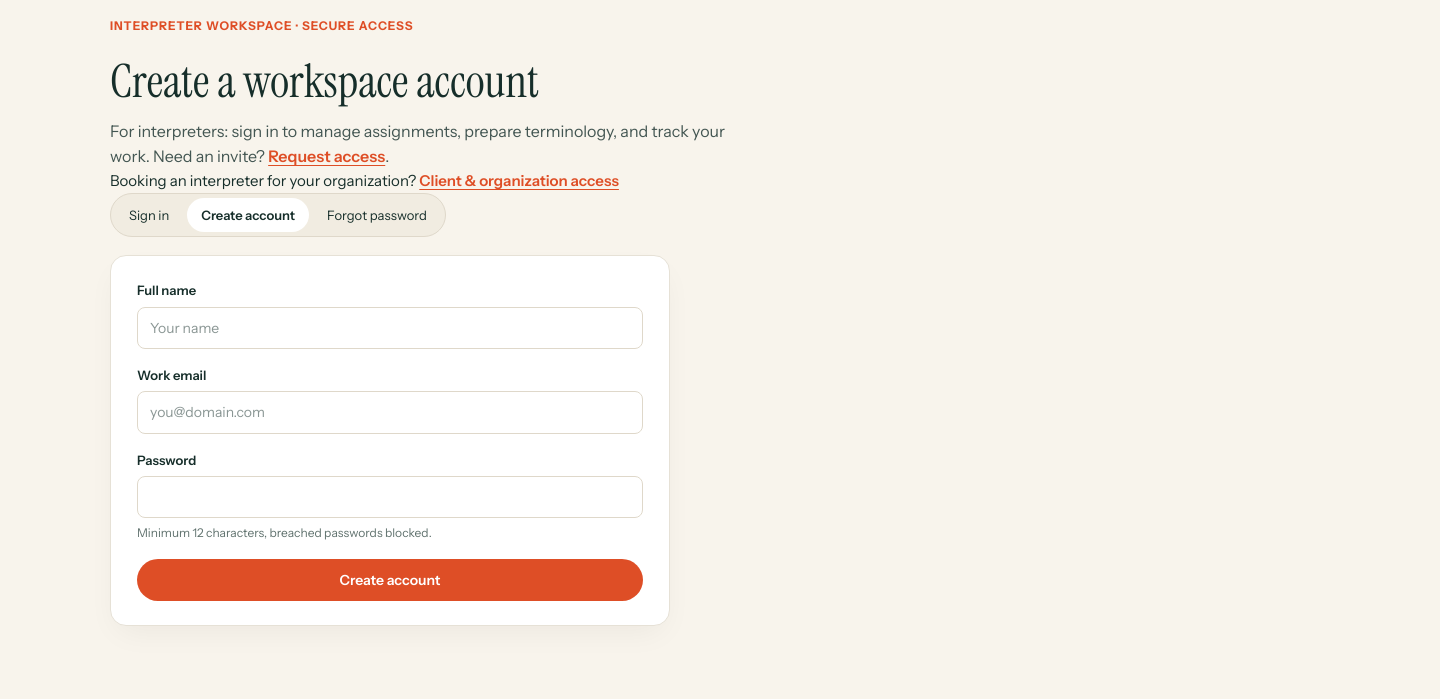
Test: Auth.tsx frontend fail-closed behavior against /api/auth rate limits & 5xx responses › completes normal signup and confirmation resend cleanly through /api/auth
This screenshot has width=1440, height=699.
Type "normal.user@clinic.org" into the field labelled "Work email". click: (390, 413)
box: [137,392,643,434]
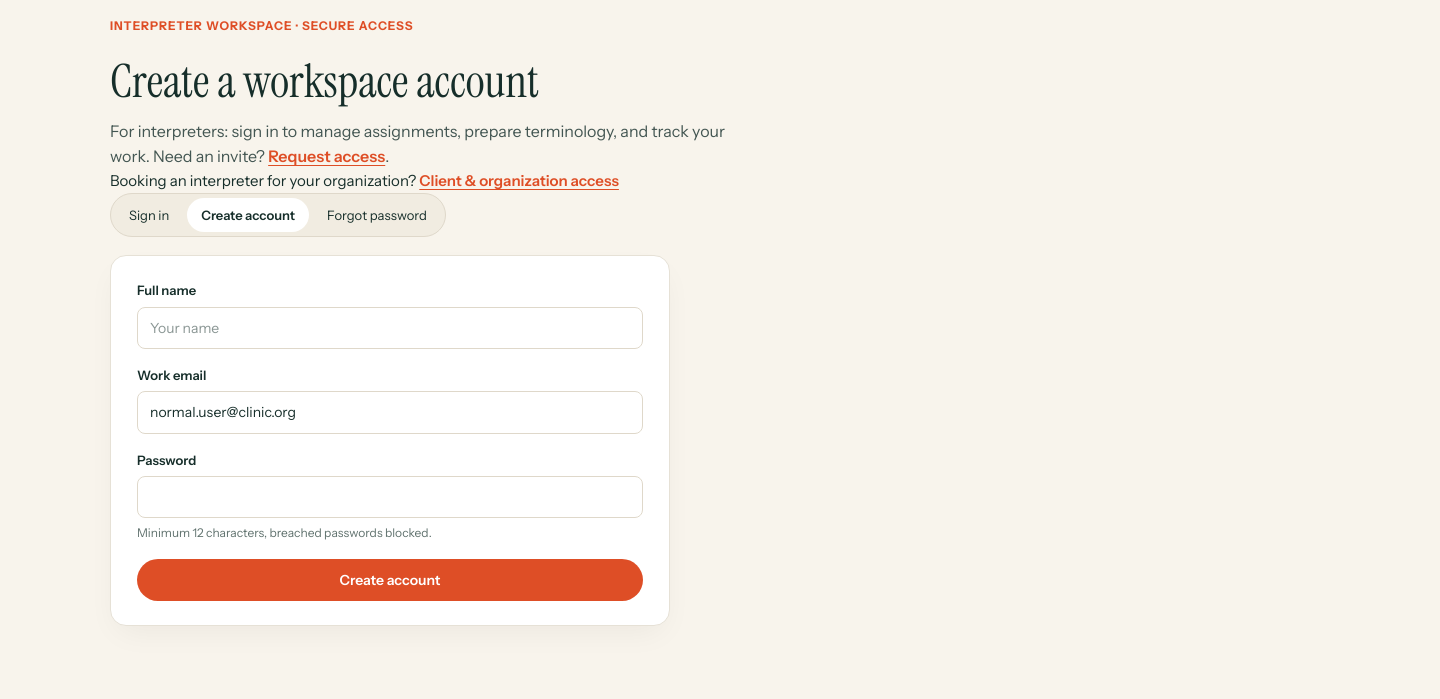
Type "ValidStrongPassword123!" into the password field labelled "Password". click: (390, 497)
box: [137,476,643,518]
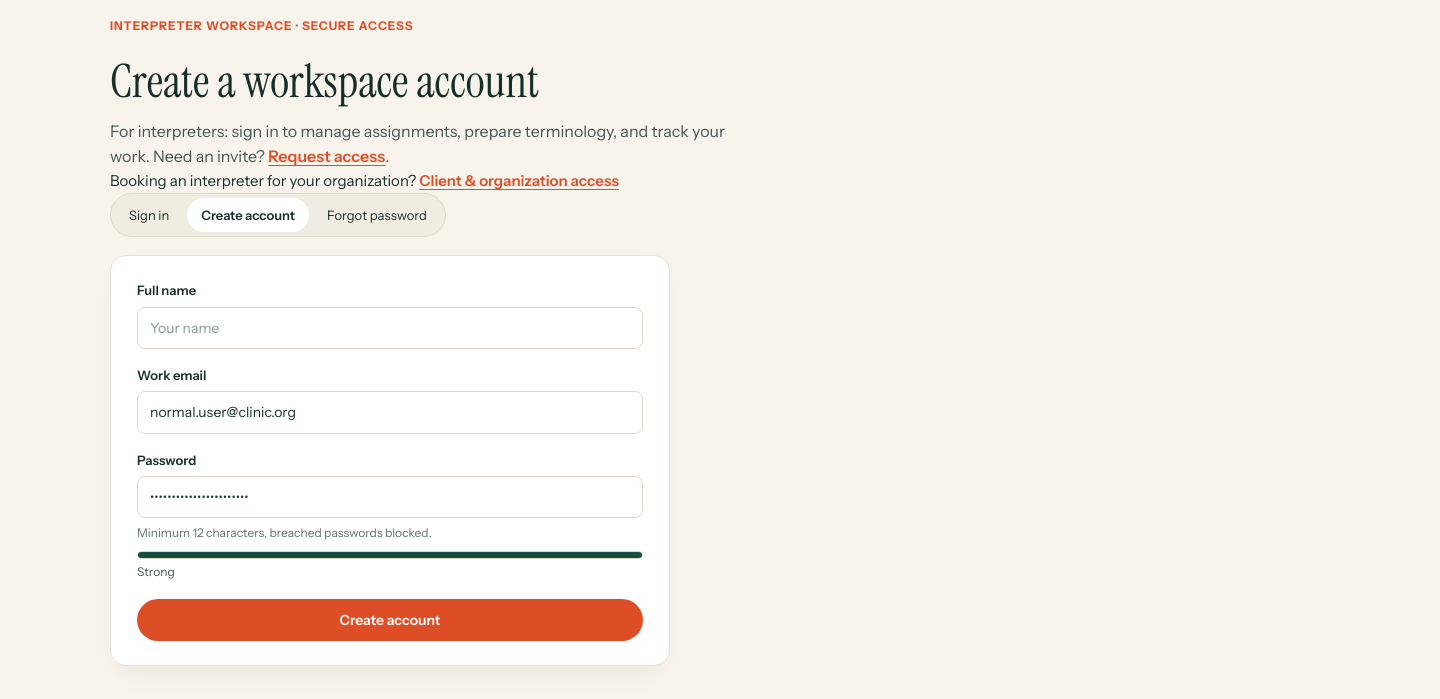
Click the button "Create account" below "Strong". click: (390, 620)
box: [137,599,643,641]
(page scrolled)
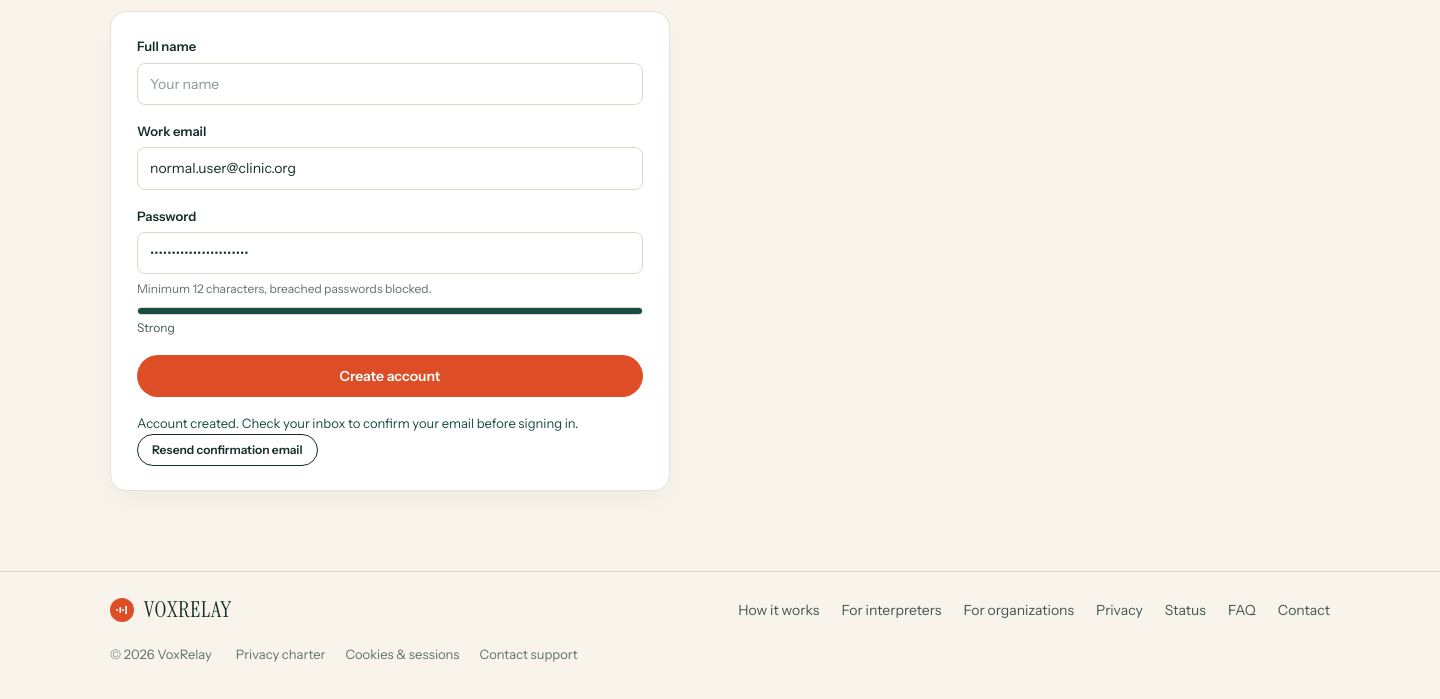
Expected: the message shows "Check your inbox to confirm your email", [137,415,578,431]
Click the button "Resend confirmation email". click: (227, 450)
box: [137,434,318,466]
(page scrolled)
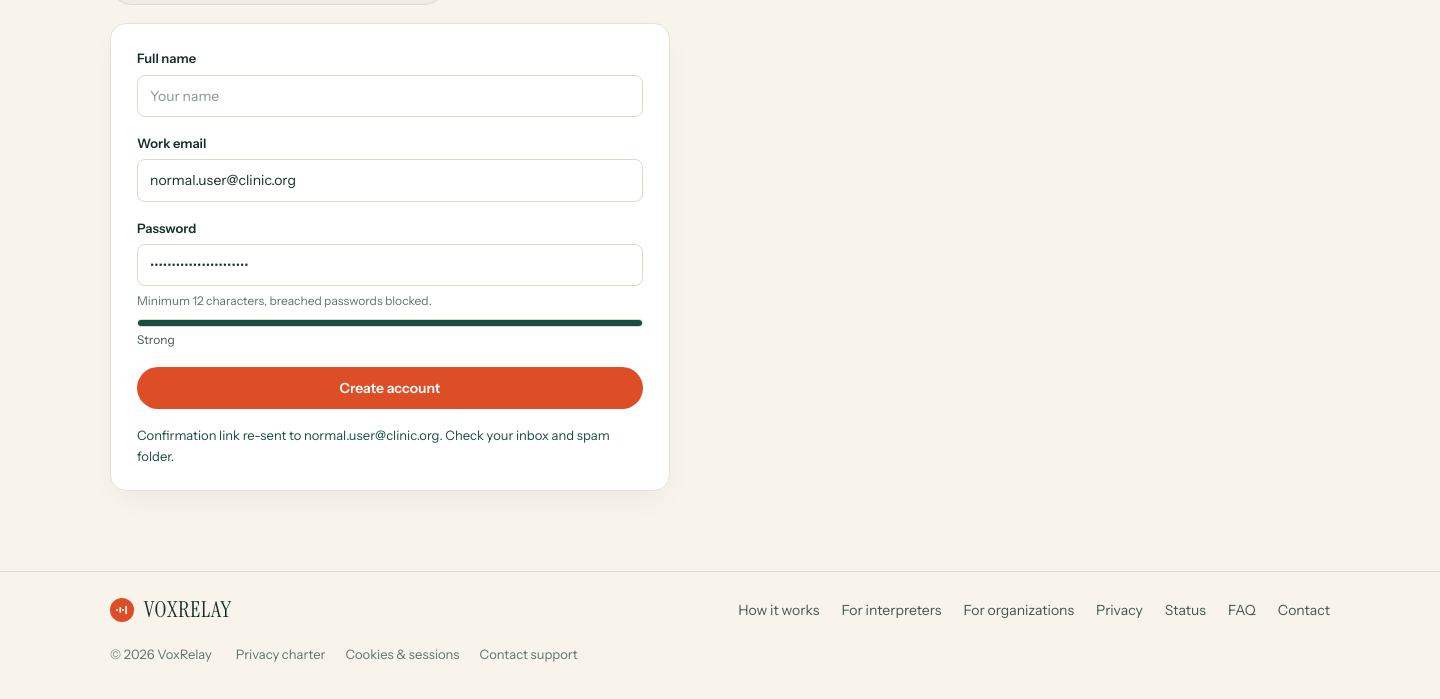
Expected: the message shows "Confirmation link re-sent to normal.user@clinic.org", [137,427,610,464]
